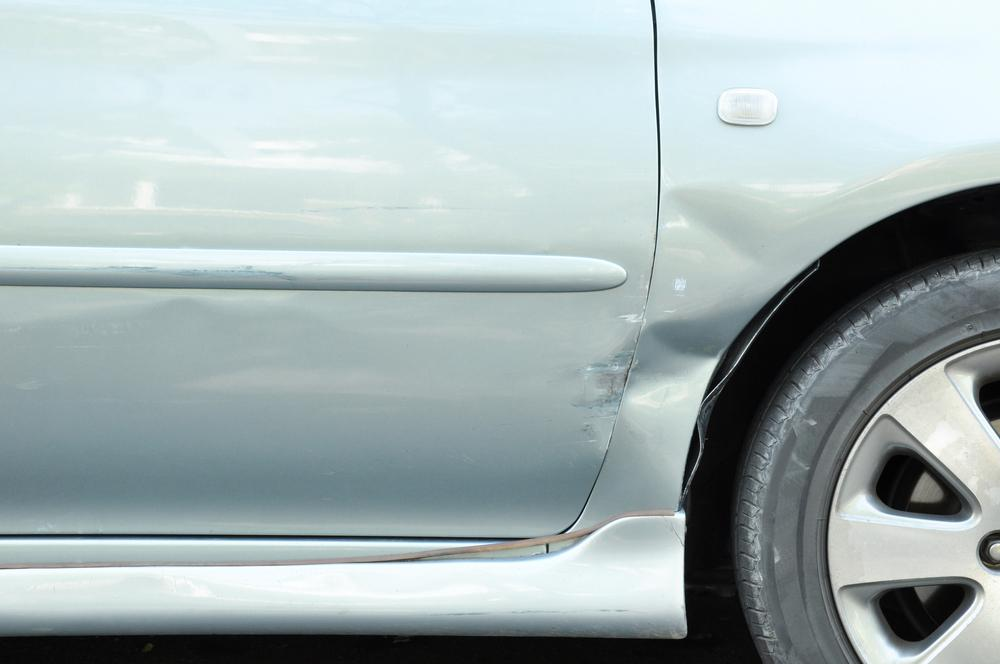dent: (144, 300, 338, 397), (619, 295, 757, 408), (665, 189, 773, 270), (578, 334, 642, 450)
